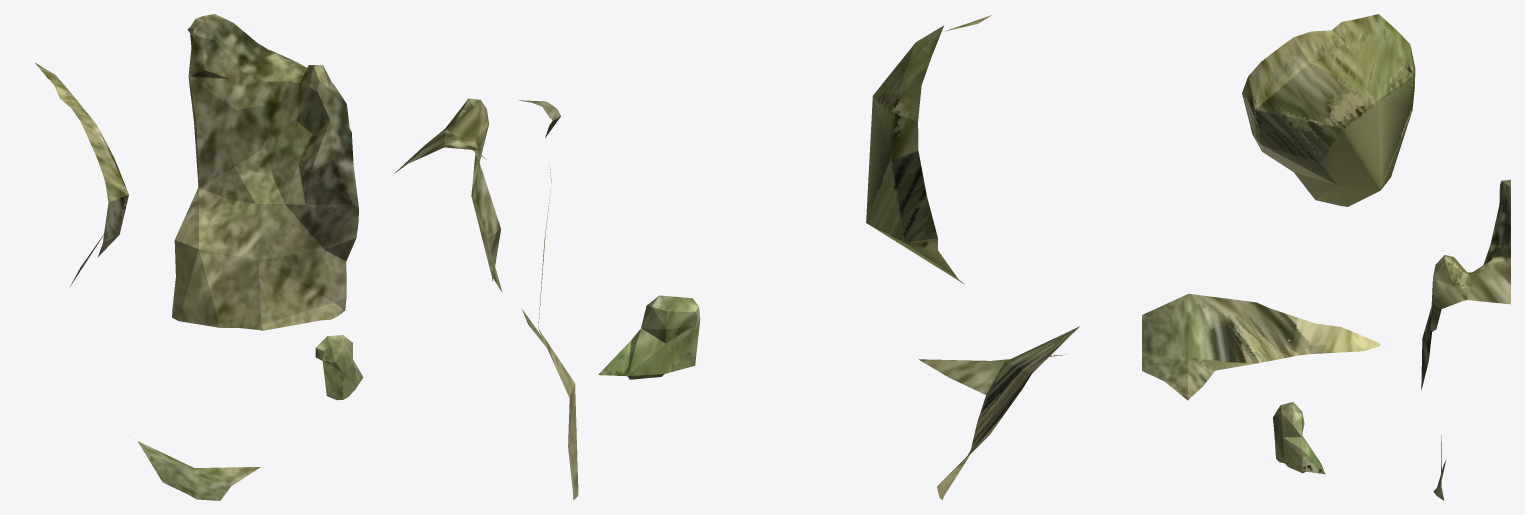
The picture shows the model from 3 angles, left to right: view 1: azimuth 30°, elevation 25°; view 2: azimuth 150°, elevation 25°; view 3: azimuth 270°, elevation 25°; orthographic projection. The views are drawn at different scales.
Size of the model in its own units: 2.95 by 2.92 by 2.95.
2 materials, 2 textured.
